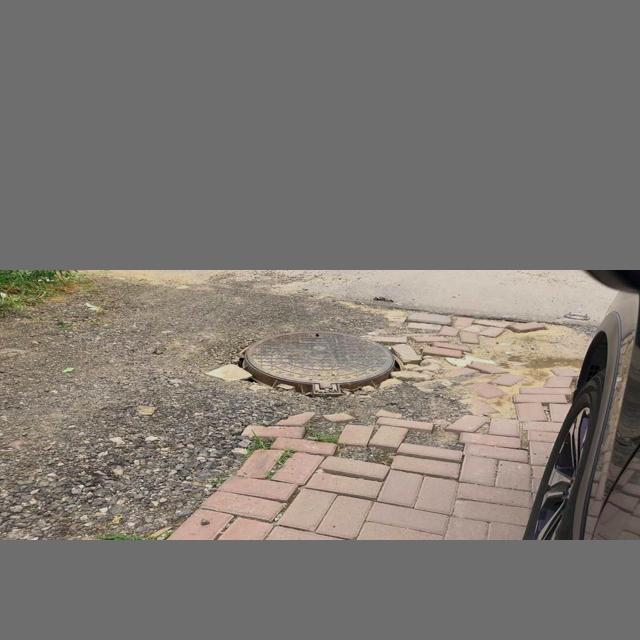circle: (191, 312, 457, 419)
